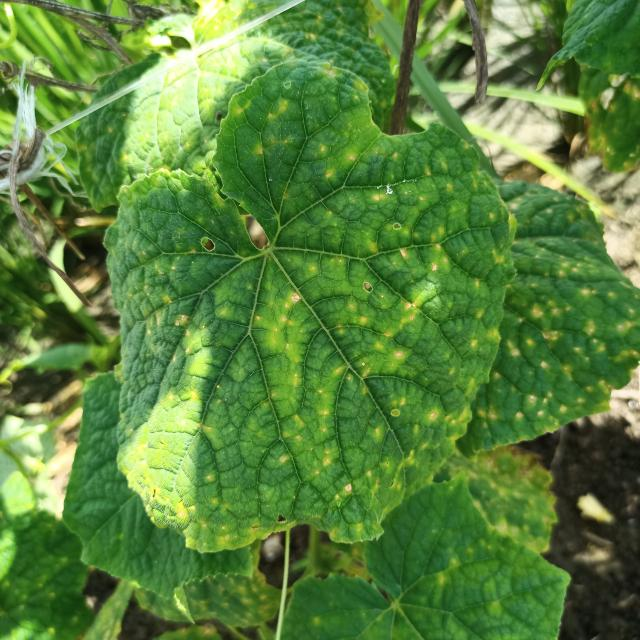disease_cucumber: (112, 52, 513, 541), (490, 176, 640, 444)
